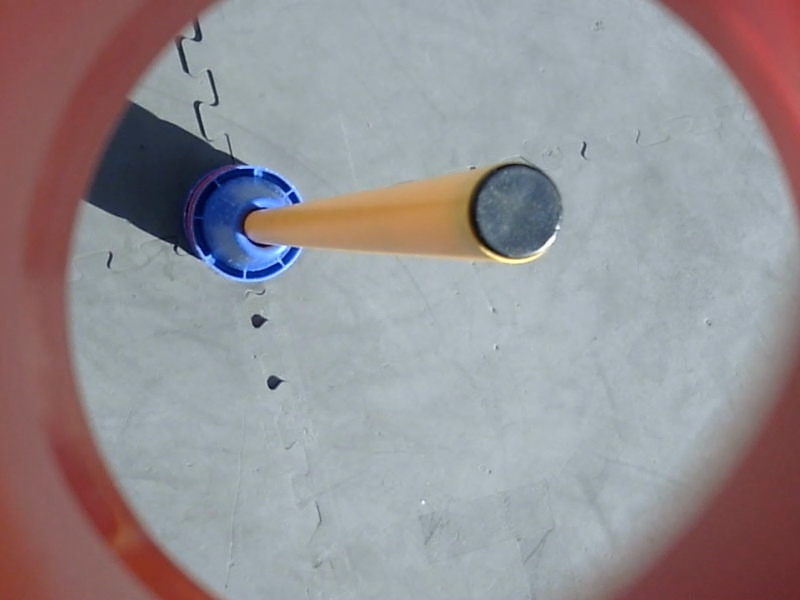tip: (465, 159, 568, 268)
